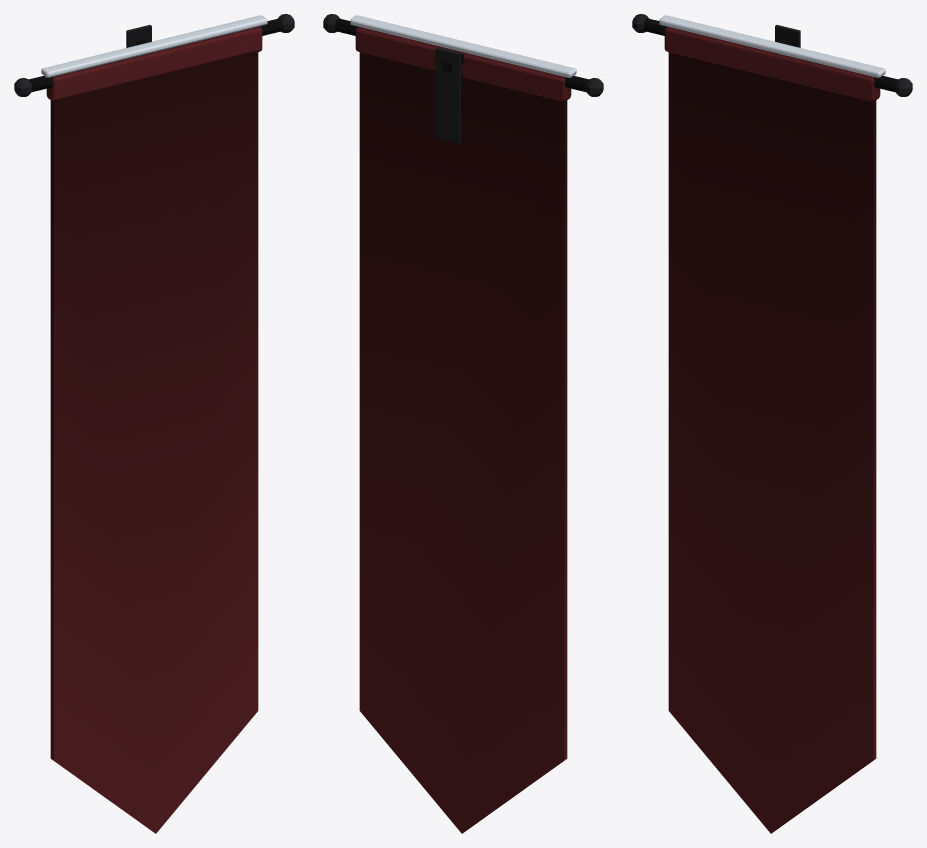
The model's file is banner.glb.
3 renders of one model, left to right at view 1: azimuth 30°, elevation 25°; view 2: azimuth 150°, elevation 25°; view 3: azimuth 330°, elevation 25°, orthographic.
Visible parts, largest first — view 1: Banner; view 2: Banner; view 3: Banner.
Boxes of the visible parts, <box> form: Banner: <box>14,14,294,833</box>; Banner: <box>323,14,603,833</box>; Banner: <box>632,14,912,833</box>.
Size of the model in its own units: 1.64 by 4.45 by 0.2126.
